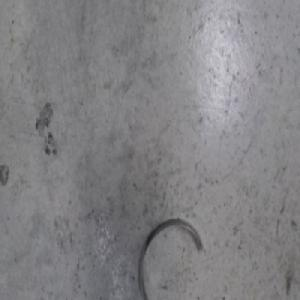AdjustableClamp: (139, 216, 207, 300)
